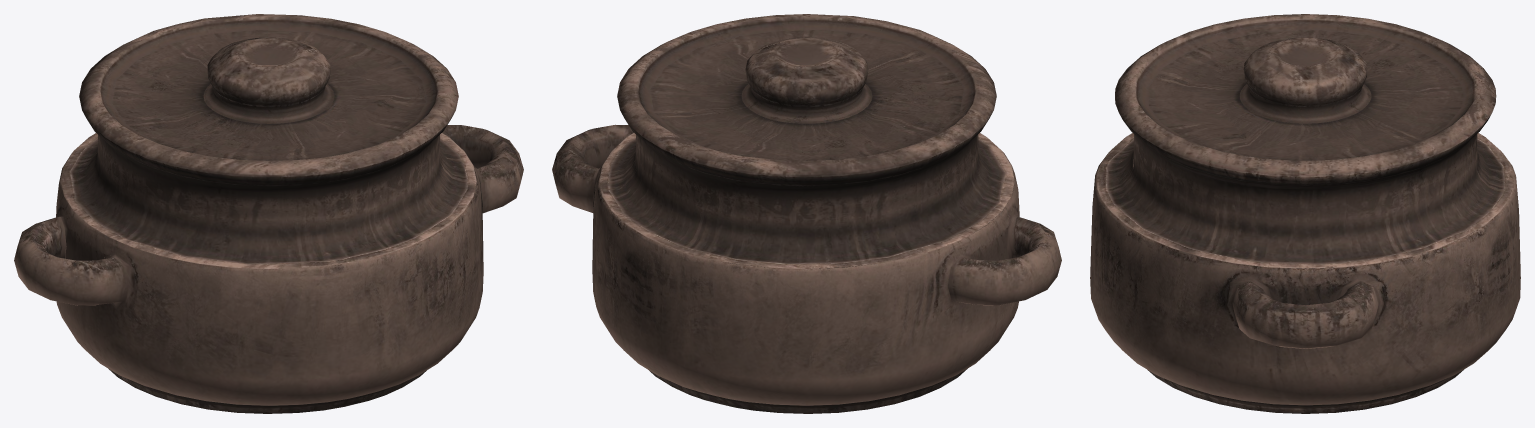
Rendered from ph_urn.gltf.
3 renders of one model, left to right at view 1: azimuth 30°, elevation 25°; view 2: azimuth 150°, elevation 25°; view 3: azimuth 270°, elevation 25°, orthographic.
Parts seen in each view (by area): view 1: ph_urn; view 2: ph_urn; view 3: ph_urn.
Boxes of the visible parts, x1,y1,x2,y2 form: ph_urn: [14, 14, 523, 413]; ph_urn: [552, 14, 1061, 413]; ph_urn: [1090, 14, 1520, 413].
Size of the model in its own units: 0.6563 by 0.3717 by 0.5017.
Materials: 1 (1 with a texture image).
